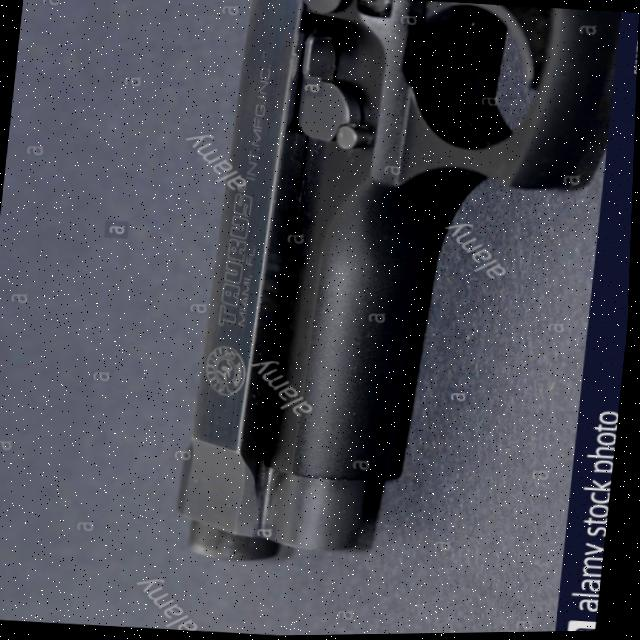pistol: (160, 0, 618, 589)
